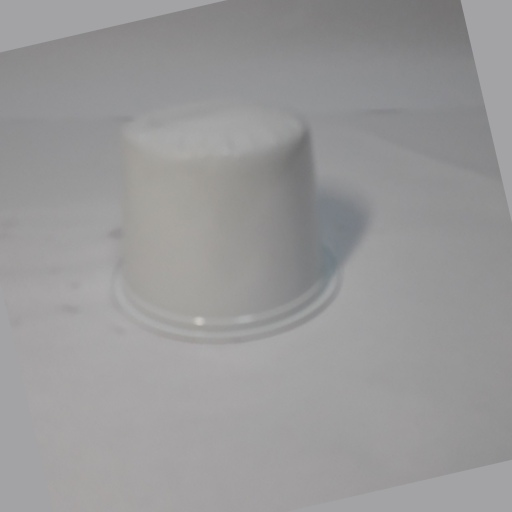Plastic_5: (106, 97, 342, 344)
